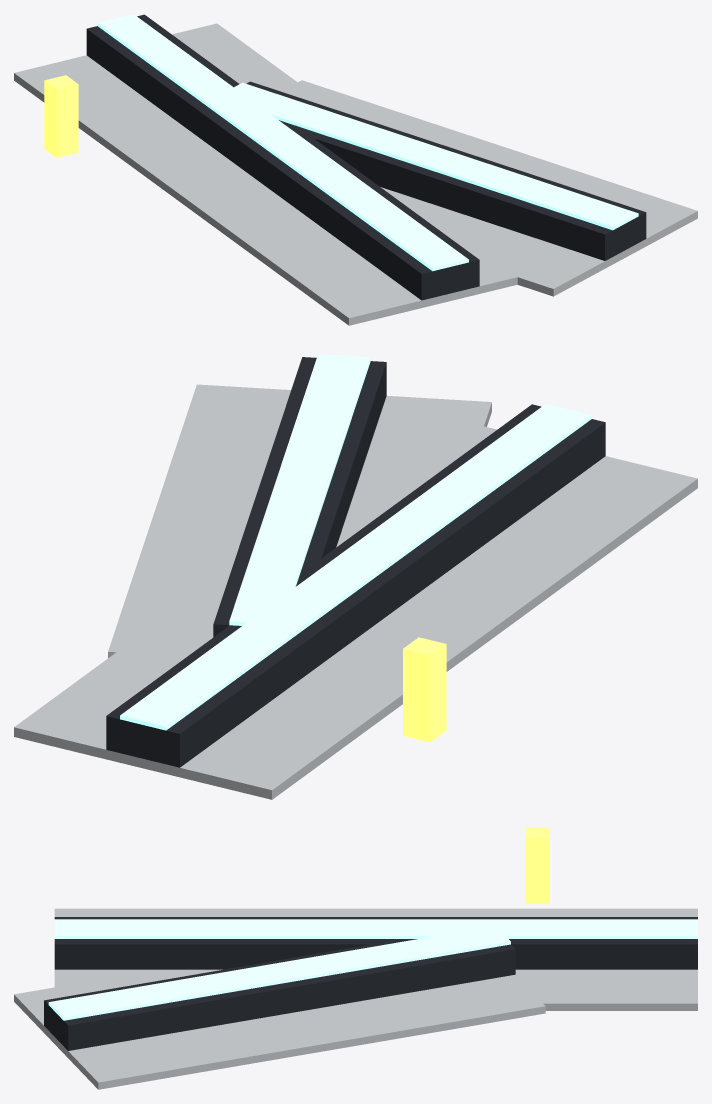
Rendered from road_rail_x_switch_lod1.glb.
3 renders of one model, top to bottom at view 1: azimuth 30°, elevation 25°; view 2: azimuth 150°, elevation 25°; view 3: azimuth 270°, elevation 25°, orthographic. The views are drawn at different scales.
Parts seen in each view (by area): view 1: body, lever; view 2: body, lever; view 3: body, lever.
Boxes of the visible parts, bbox=[...] form: body: bbox=[14, 14, 697, 325]; lever: bbox=[44, 75, 78, 157]; body: bbox=[14, 354, 697, 799]; lever: bbox=[403, 637, 446, 742]; body: bbox=[14, 908, 697, 1089]; lever: bbox=[525, 828, 549, 903].
Bounding box in the file's own units: 5.77 × 0.9 × 8.51.
